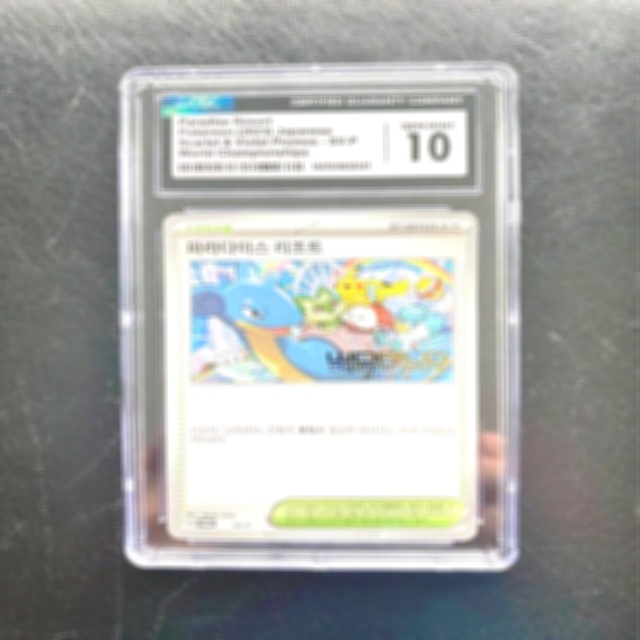card: (162, 211, 479, 541)
